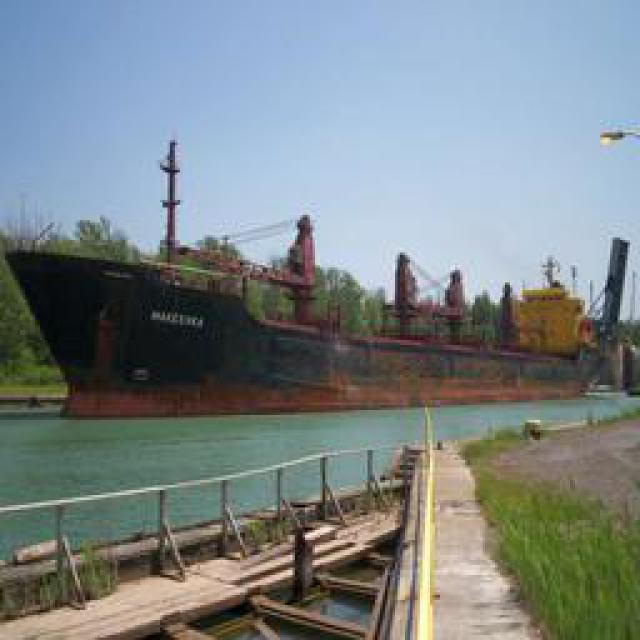Ship: (3, 132, 640, 426)
